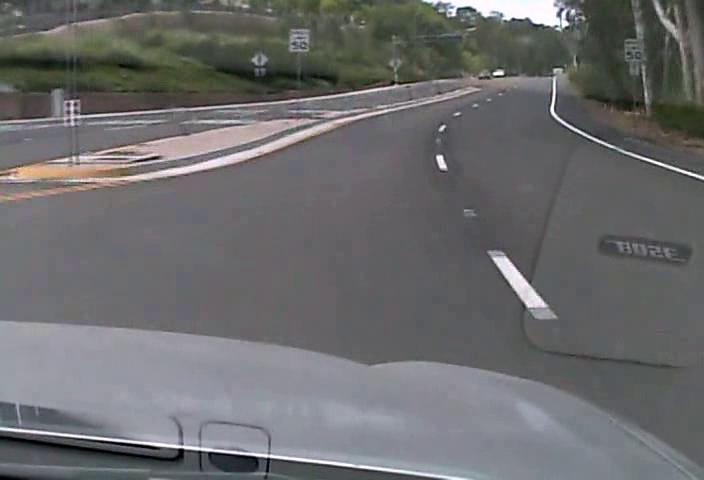speedLimitUrdbl: (288, 27, 310, 51)
